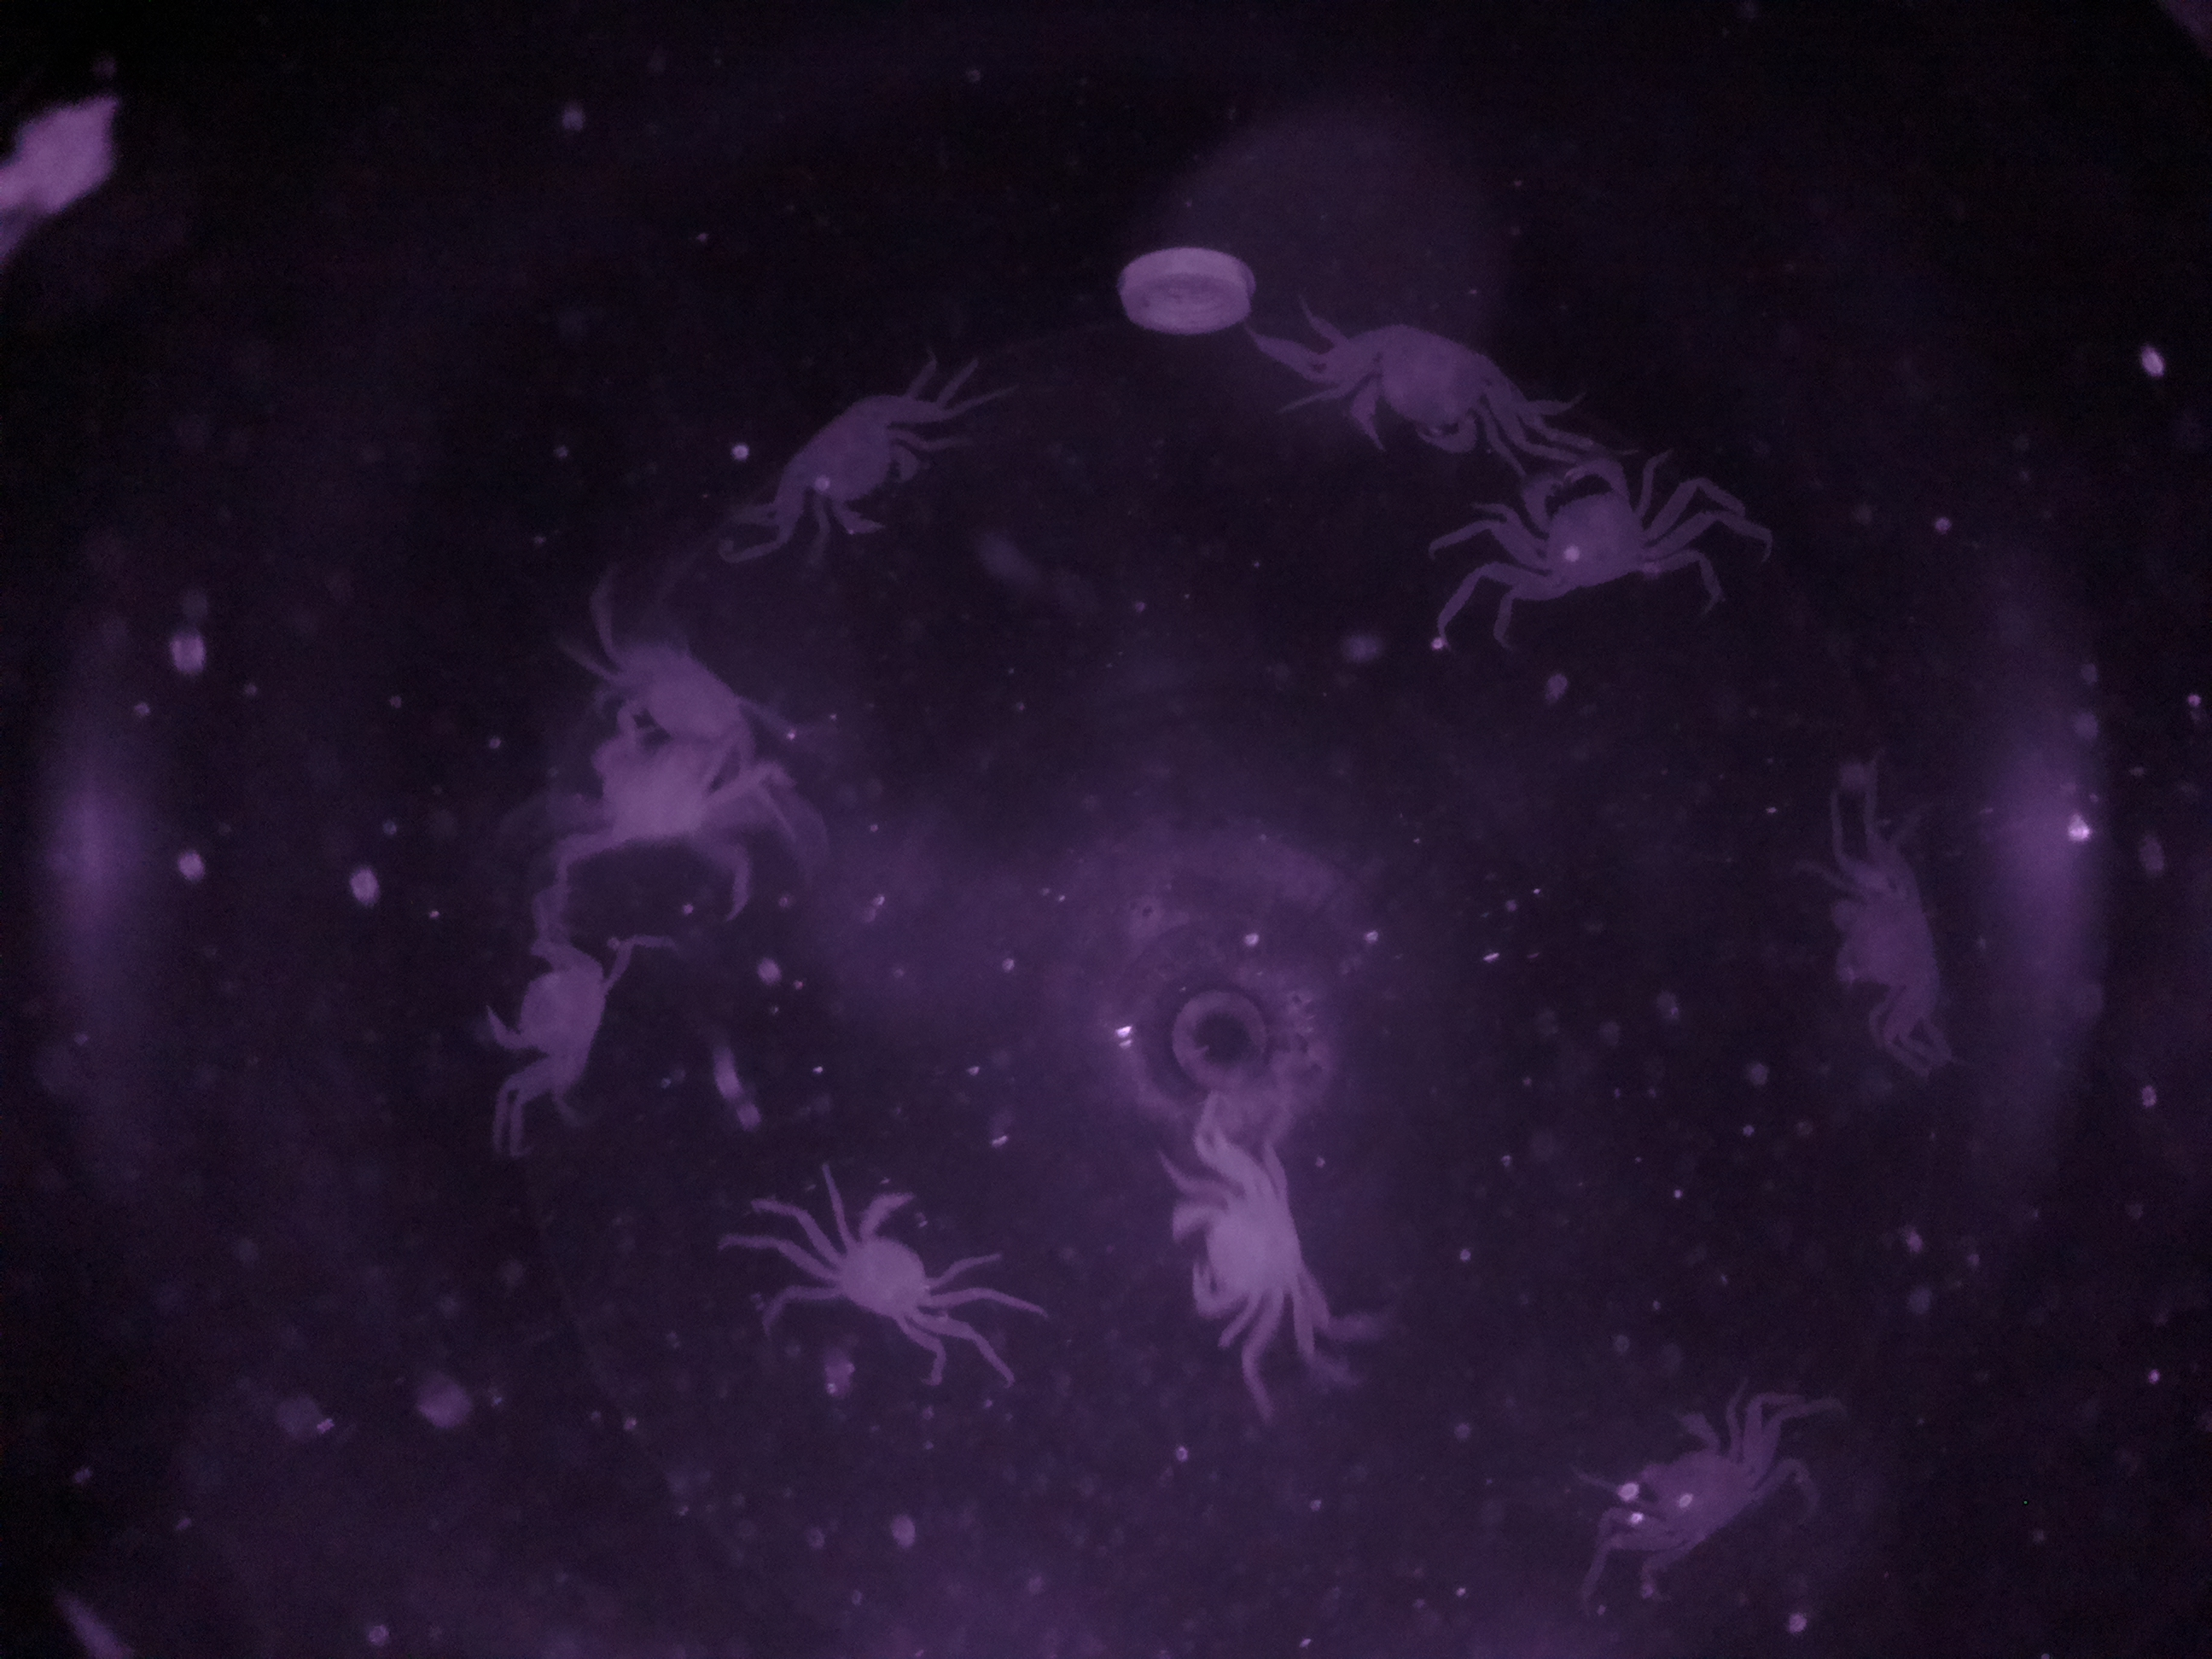Crab: (1480, 439, 1700, 626), (1294, 310, 1531, 471), (765, 364, 939, 577), (1148, 1148, 1329, 1352), (819, 1168, 1019, 1344)
